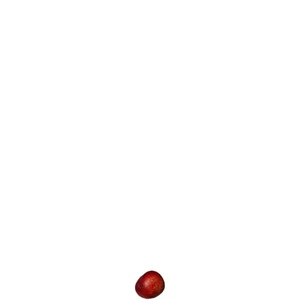nectarina: (135, 271, 167, 300)
